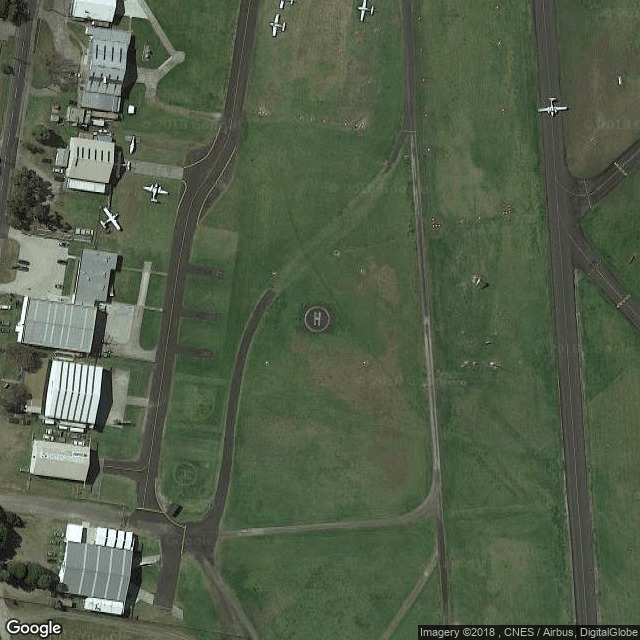heliport: (311, 310, 322, 327)
